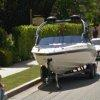Boat: (27, 13, 99, 89)
